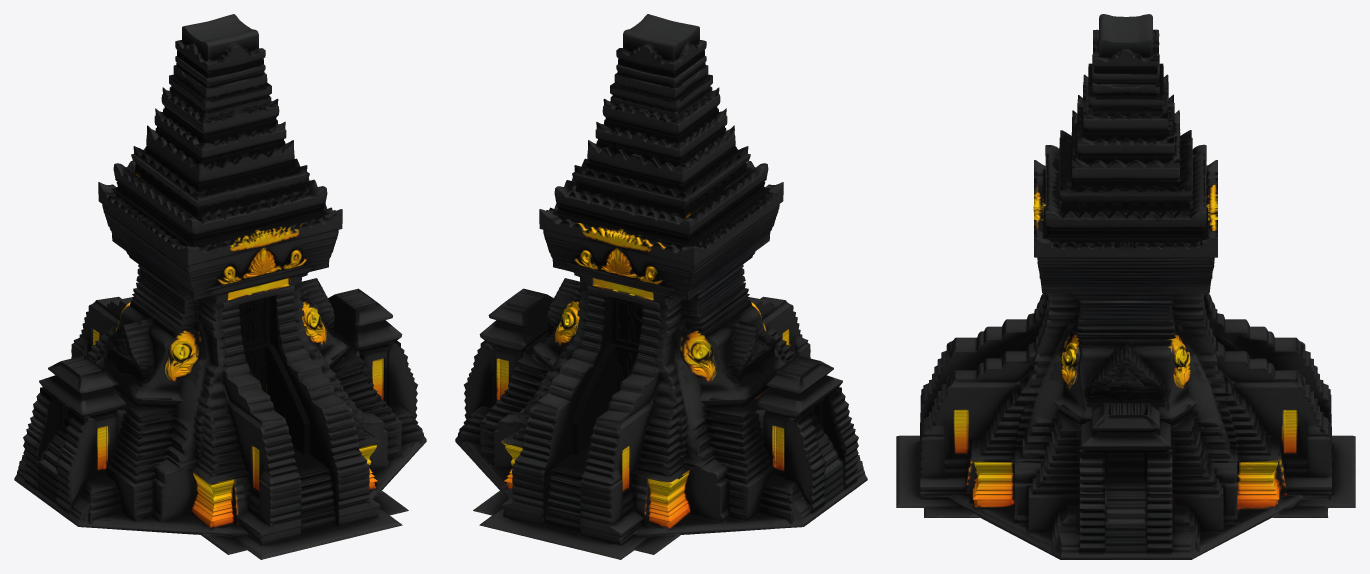
File: situs_trowulan.glb
The picture shows the model from 3 angles, left to right: view 1: azimuth 30°, elevation 25°; view 2: azimuth 150°, elevation 25°; view 3: azimuth 270°, elevation 25°; orthographic projection. The views are drawn at different scales.
Visible parts, largest first — view 1: convert; view 2: convert; view 3: convert.
Boxes of the visible parts, x1,y1,x2,y2 form: convert: (14,14,426,559); convert: (455,14,867,559); convert: (896,14,1355,559).
Bounding box in the file's own units: 0.7218 × 0.8512 × 0.7952.
1 material, 1 textured.
